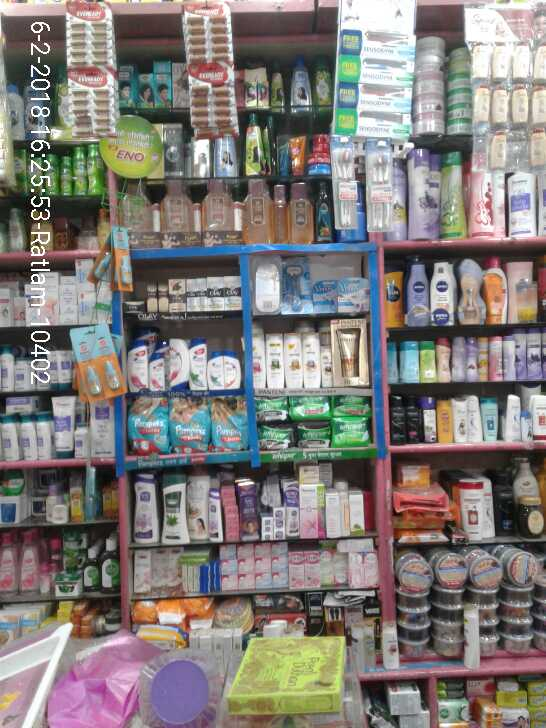venus: (254, 258, 285, 311), (285, 257, 308, 311), (337, 276, 370, 311), (313, 278, 337, 311)
